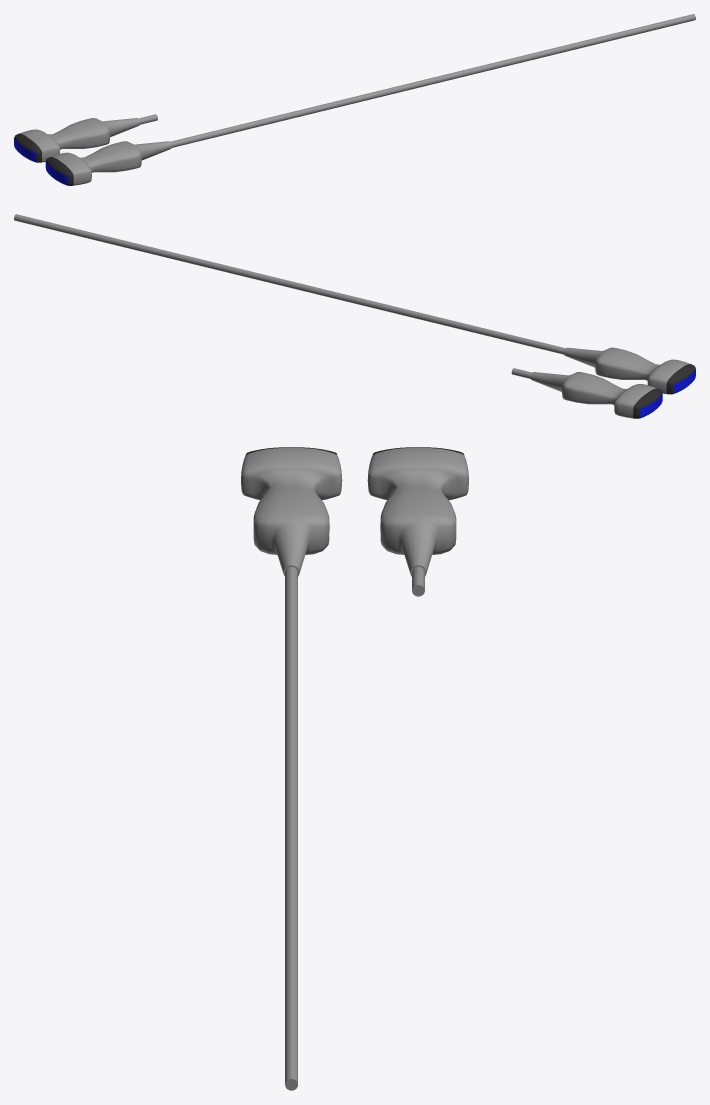
File: Transductor.fbx
3 renders of one model, top to bottom at view 1: azimuth 30°, elevation 25°; view 2: azimuth 150°, elevation 25°; view 3: azimuth 270°, elevation 25°, orthographic. The views are drawn at different scales.
Parts seen in each view (by area): view 1: Transductor_2, Transductor_1; view 2: Transductor_2, Transductor_1; view 3: Transductor_2, Transductor_1.
Part boxes in pixels (x1,y1,x2,y2): Transductor_2: (45,14,695,185); Transductor_1: (14,114,157,162); Transductor_2: (14,214,695,394); Transductor_1: (511,368,662,418); Transductor_2: (241,447,342,1090); Transductor_1: (367,447,468,596).
Bounding box in the file's own units: 639 × 19.22 × 98.64.
